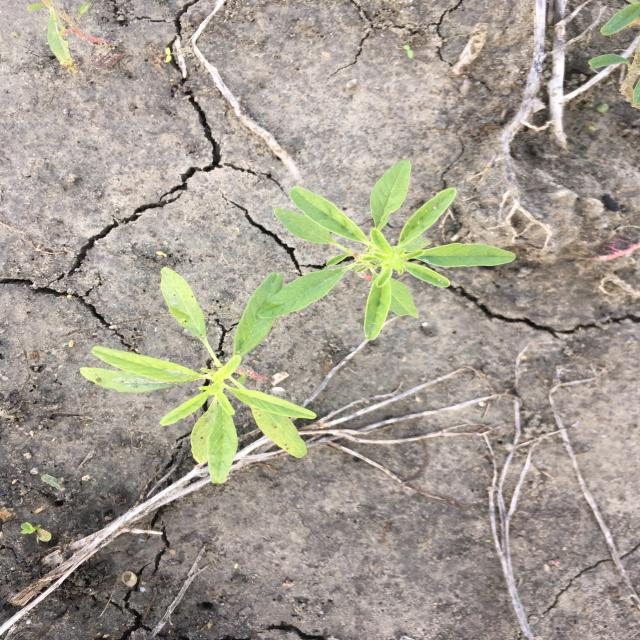Waterhemp: (77, 264, 319, 486), (255, 158, 519, 342), (25, 2, 110, 72)
